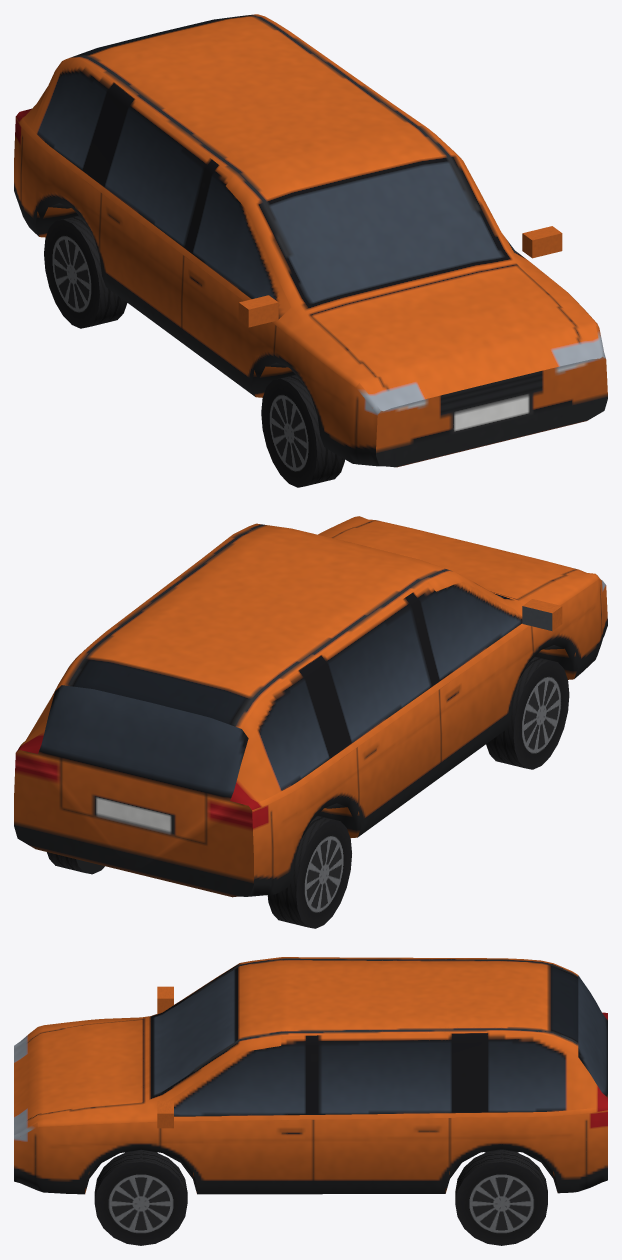
Rendered from SM_Morin_Auto_B_v2_Arancio.fbx.
3 renders of one model, top to bottom at view 1: azimuth 30°, elevation 25°; view 2: azimuth 150°, elevation 25°; view 3: azimuth 270°, elevation 25°, orthographic. The views are drawn at different scales.
Visible parts, largest first — view 1: SM_Morin_Auto_B_v2_Arancio; view 2: SM_Morin_Auto_B_v2_Arancio; view 3: SM_Morin_Auto_B_v2_Arancio.
Boxes of the visible parts, x1=… form: SM_Morin_Auto_B_v2_Arancio: x1=14, y1=14, x2=607, y2=487; SM_Morin_Auto_B_v2_Arancio: x1=14, y1=516, x2=607, y2=928; SM_Morin_Auto_B_v2_Arancio: x1=14, y1=957, x2=607, y2=1245.
Bounding box in the file's own units: 220 × 435 × 164.
Materials: 1 (1 with a texture image).
